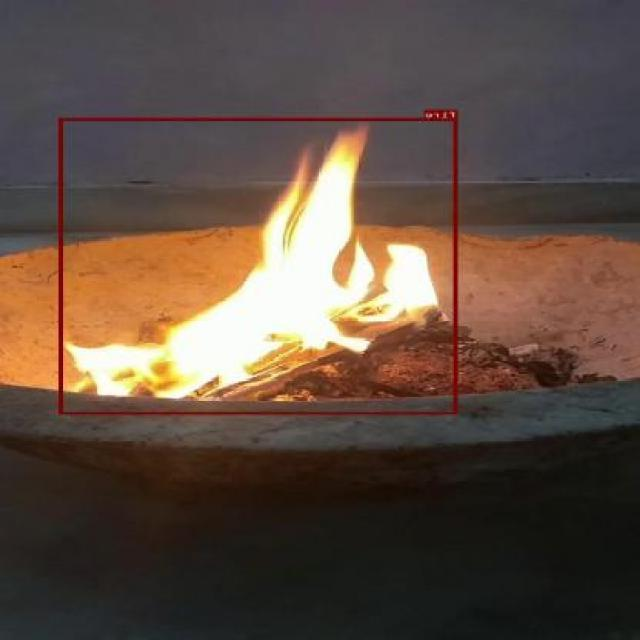Fire: (59, 118, 458, 414)
